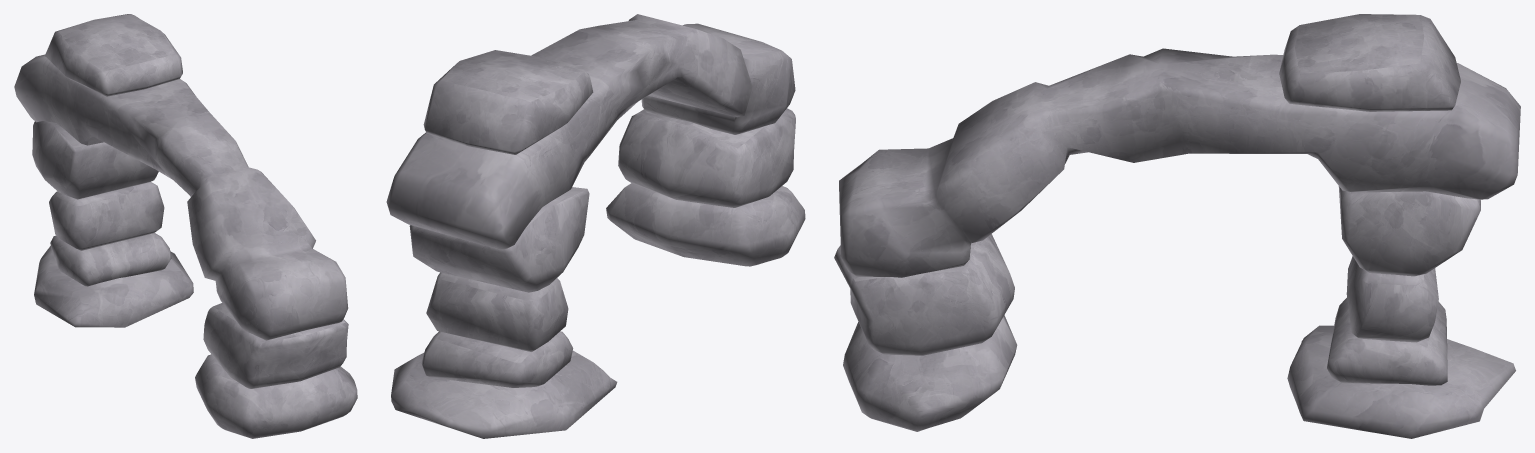
Rendered from Rodck_Formation_2.fbx.
3 views of the same model, side by side, from view 1: azimuth 30°, elevation 25°; view 2: azimuth 150°, elevation 25°; view 3: azimuth 270°, elevation 25° (orthographic). The views are drawn at different scales.
Visible parts, largest first — view 1: Rodck_Formation_2; view 2: Rodck_Formation_2; view 3: Rodck_Formation_2.
Part boxes in pixels (left/top/right/bottom): Rodck_Formation_2: left=14, top=14, right=357, bottom=438; Rodck_Formation_2: left=386, top=14, right=805, bottom=438; Rodck_Formation_2: left=834, top=14, right=1520, bottom=438.
Bounding box in the file's own units: 5.42 × 9.63 × 16.31.
